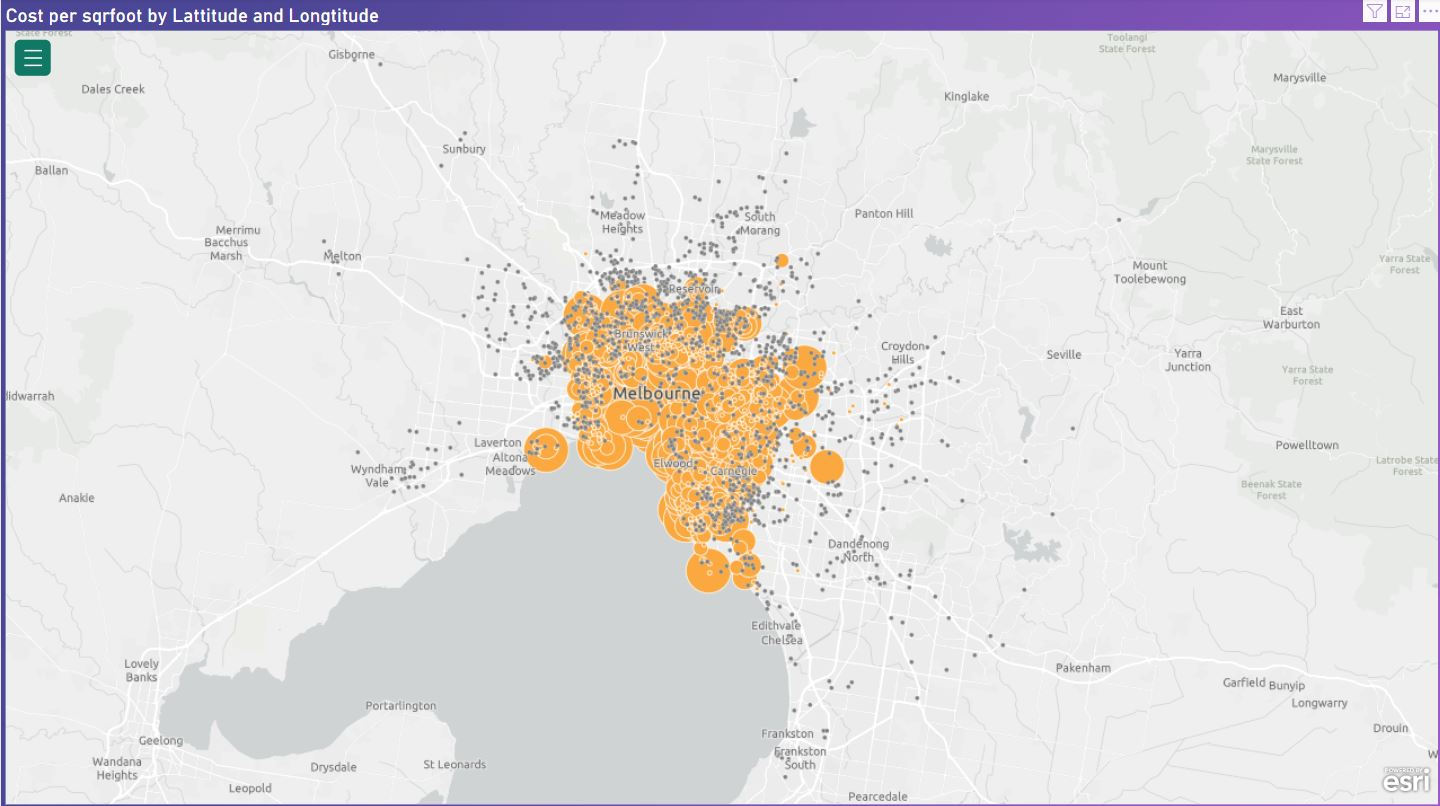

The page's visual inventory and layout, read from the dashboard file:
{"tool":"powerbi","page":{"name":"Map cost per squarefoot","canvas":[1280,720],"ordinal":0},"visuals":[{"type":"esriVisual","title":"Cost per sqrfoot by Lattitude and Longtitude","fields":{"Latitude":["Melb.Lattitude"],"Longitude":["Melb.Longtitude"],"Size":["Melb.cost per sqrfoot"]},"box":[0,0,1280.4,720],"z":0}]}

Visuals, with their boxes in screenshot pixels (x1, y1, x2, y2), scaled from the page's 1280x720 canvas onto the 1440x806 screenshot:
"Cost per sqrfoot by Lattitude and Longtitude" esriVisual: 0, 0, 1439, 805
